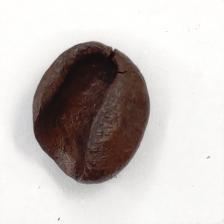NG: (30, 95, 106, 181), (52, 41, 129, 97)
